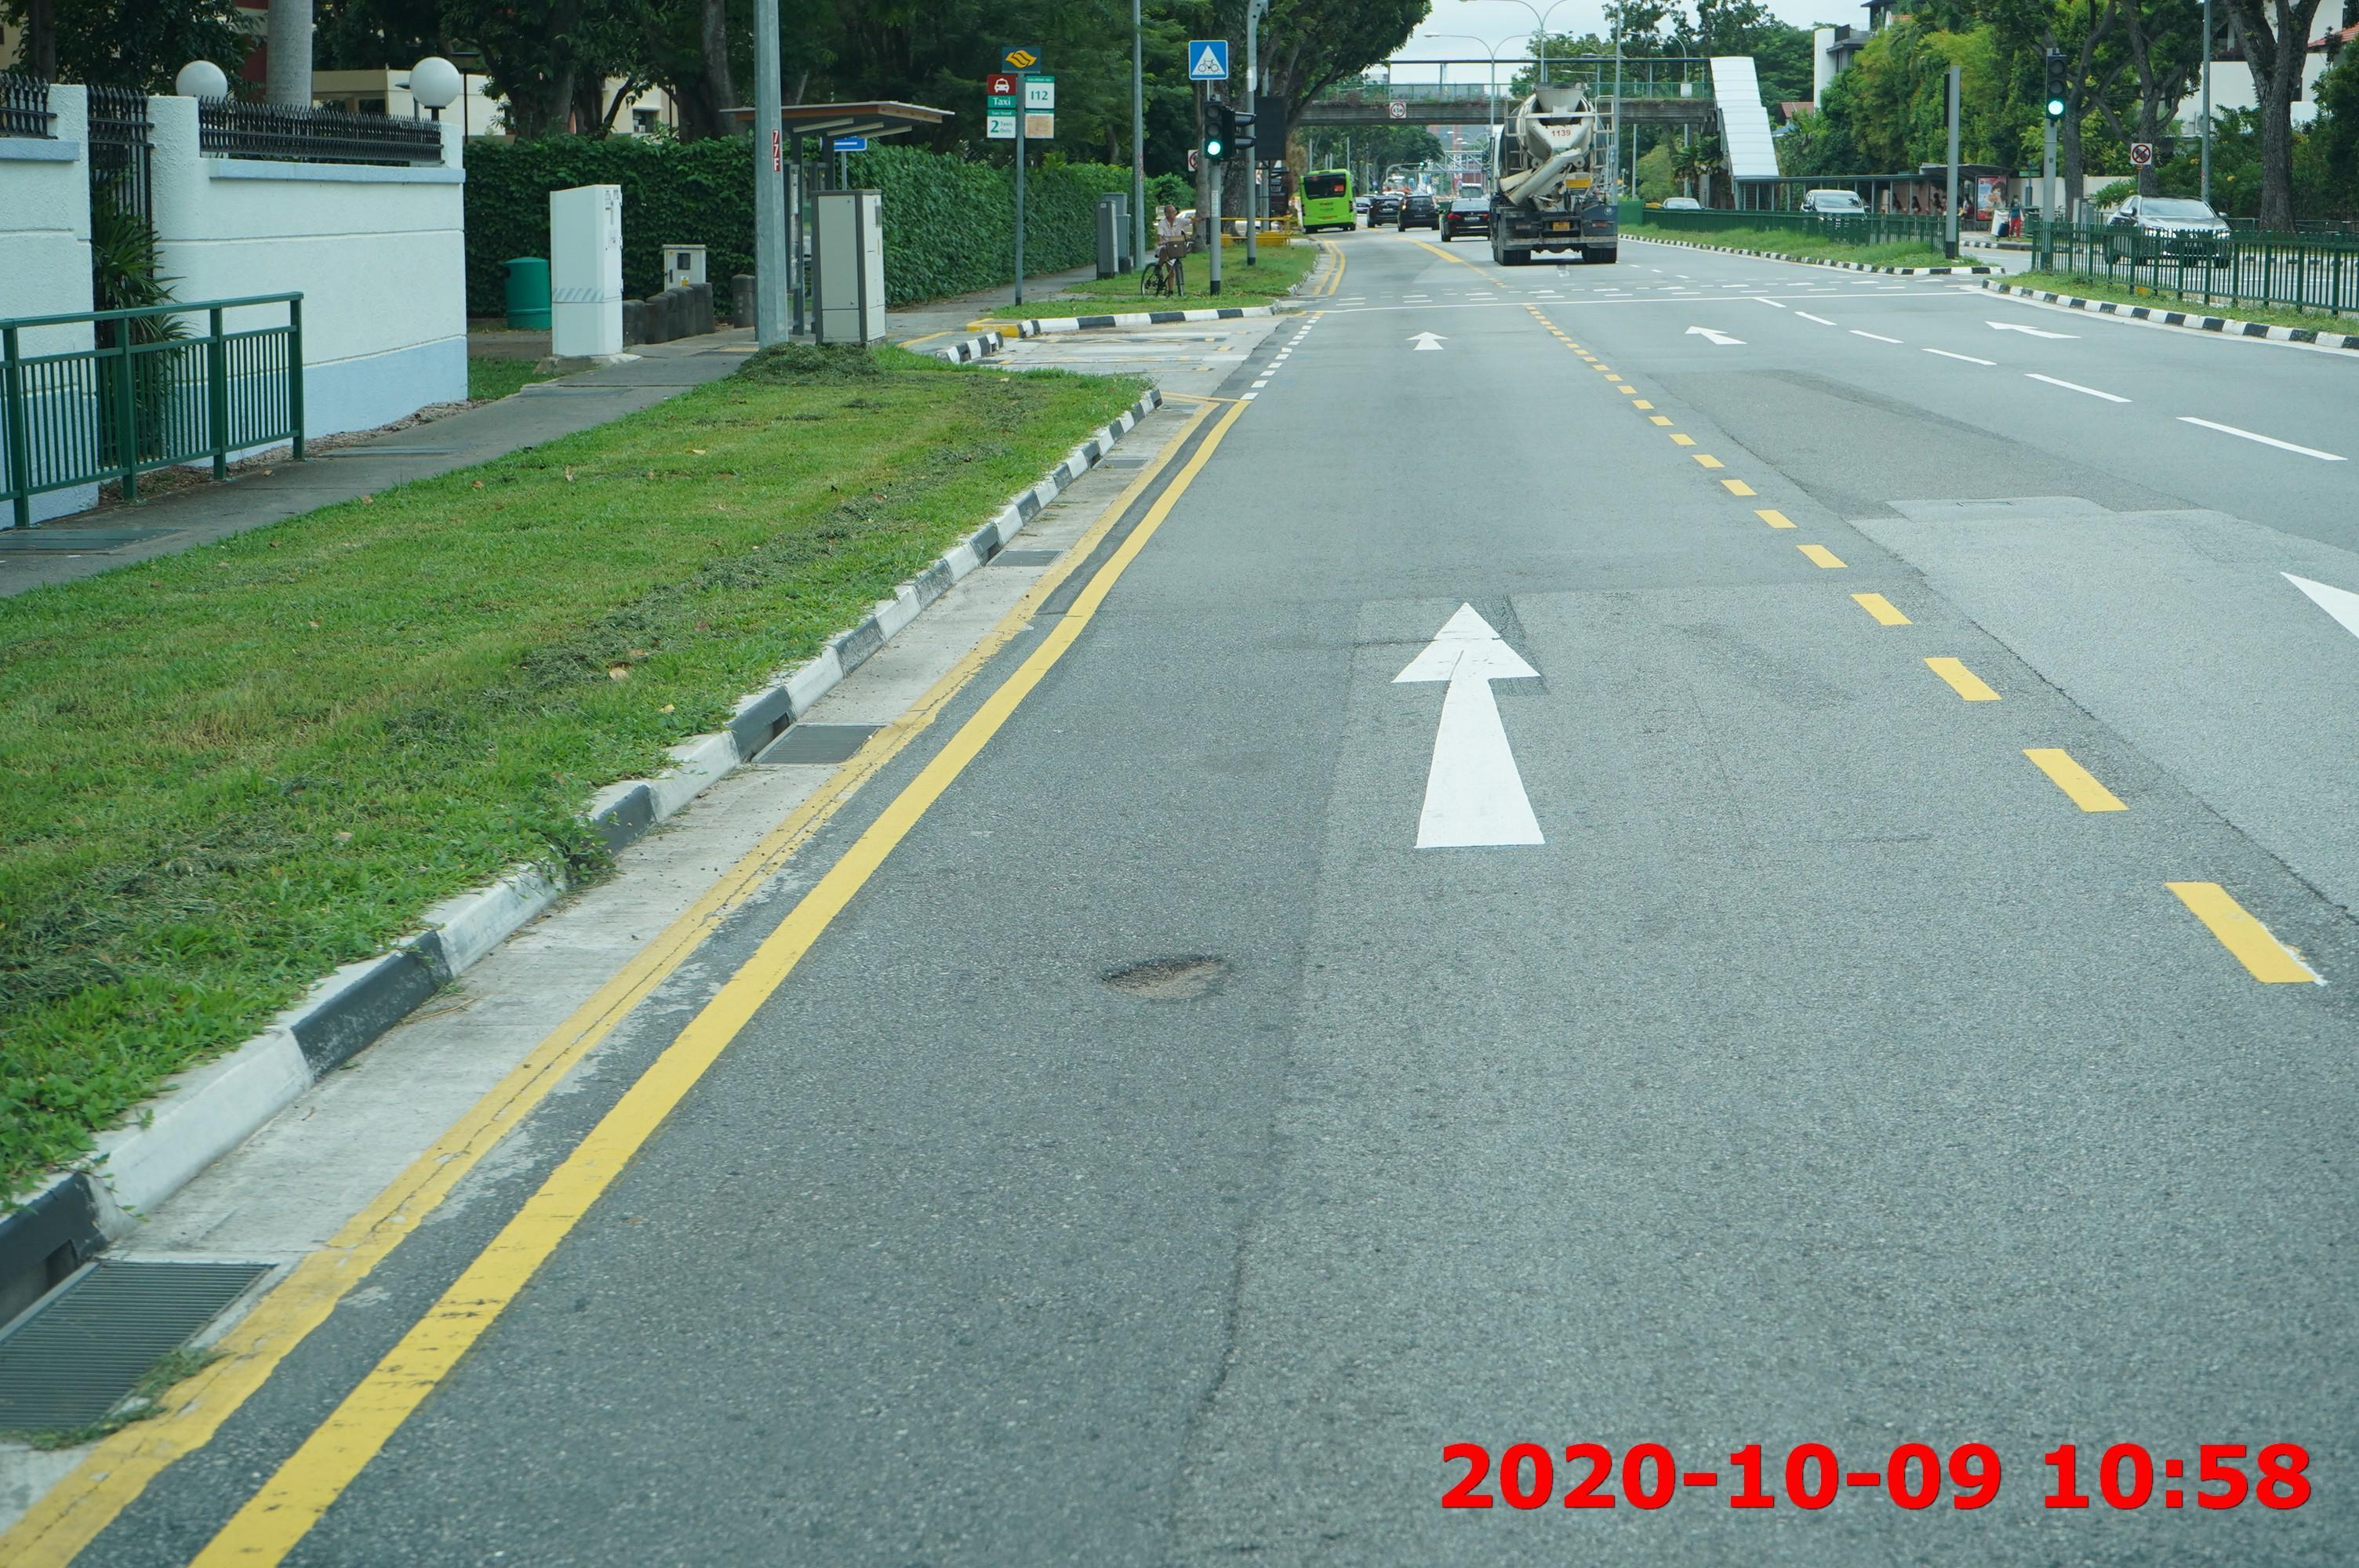wearing course peeling off: (1089, 935, 1248, 1015)
